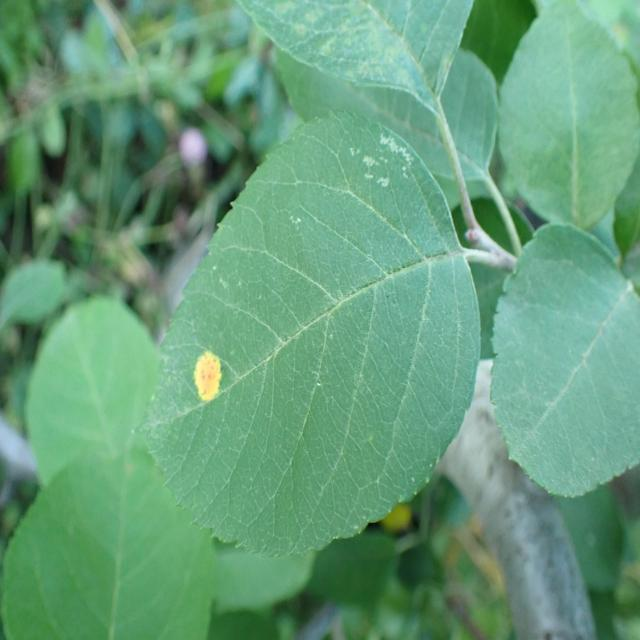Rust: (178, 324, 232, 422)
